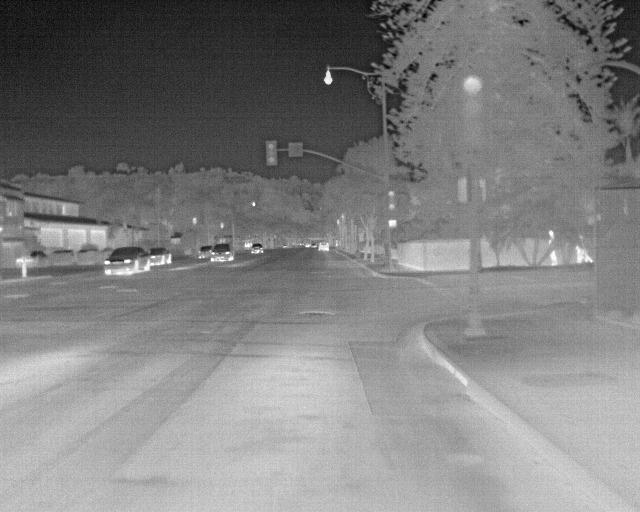car: (101, 246, 152, 274), (75, 245, 101, 266), (46, 249, 76, 267), (147, 246, 174, 265), (27, 250, 49, 269), (213, 245, 234, 262), (196, 243, 215, 260), (249, 241, 267, 255), (316, 239, 332, 253)
